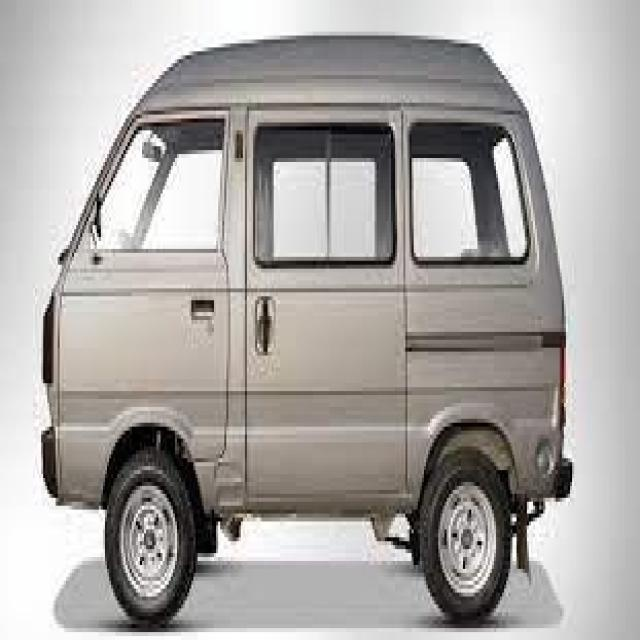Van: (37, 32, 574, 628)
